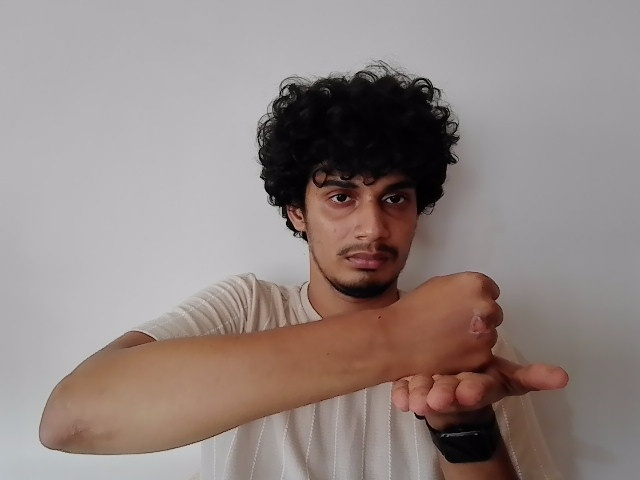help: (383, 273, 571, 421)
